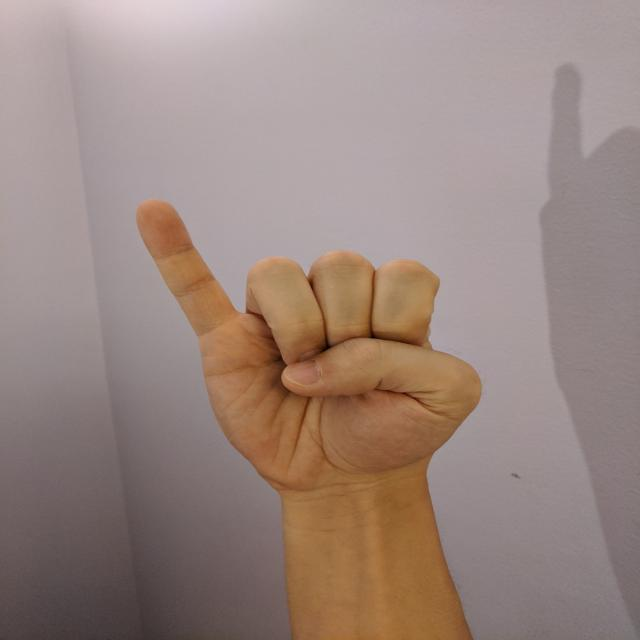I: (129, 194, 489, 496)
